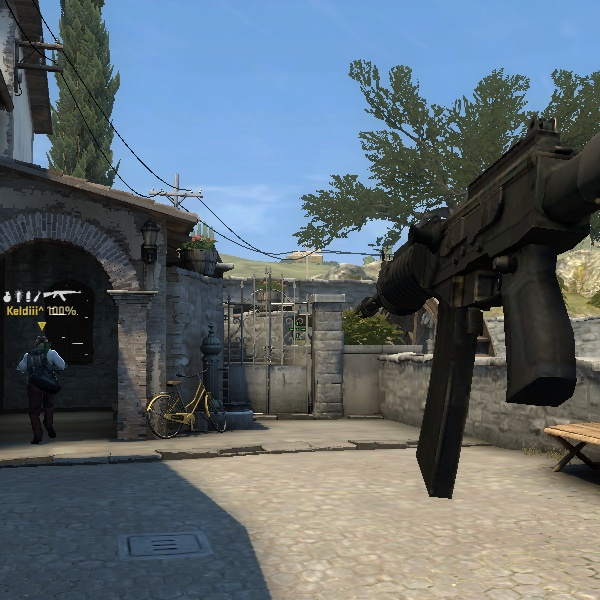t_body: (8, 332, 71, 444)
